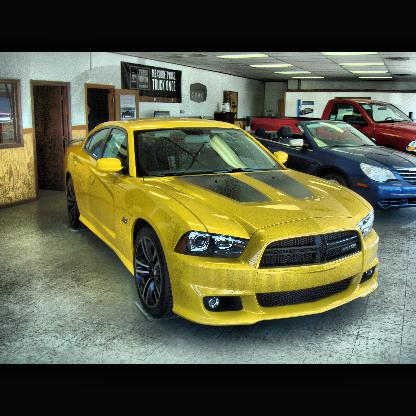Dodge Charger Sedan 2012: (64, 120, 382, 329)
